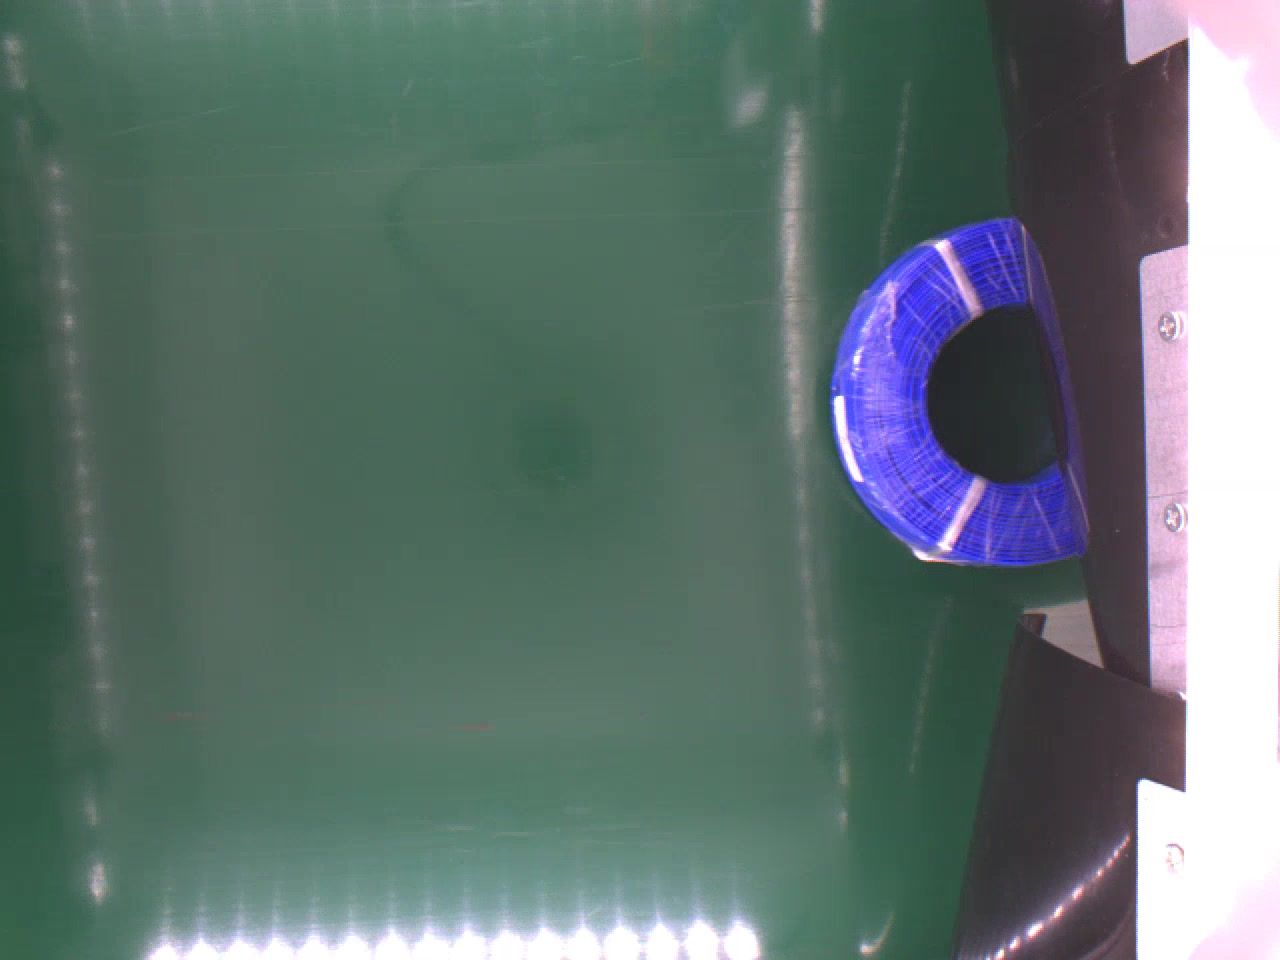blue: (828, 215, 1090, 571)
